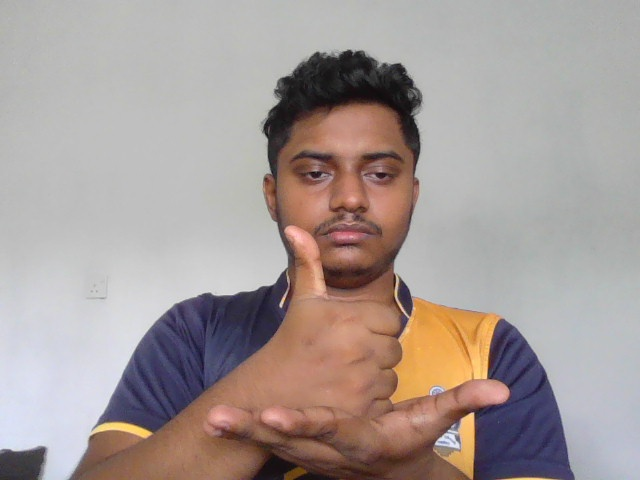Help: (206, 225, 512, 469)
